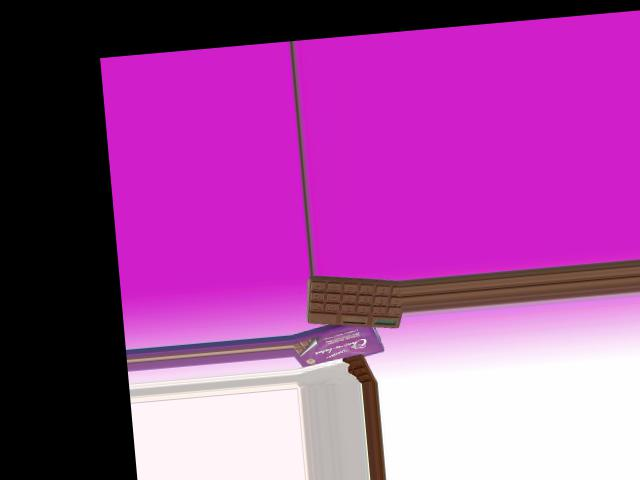chocolate: (304, 267, 400, 337)
